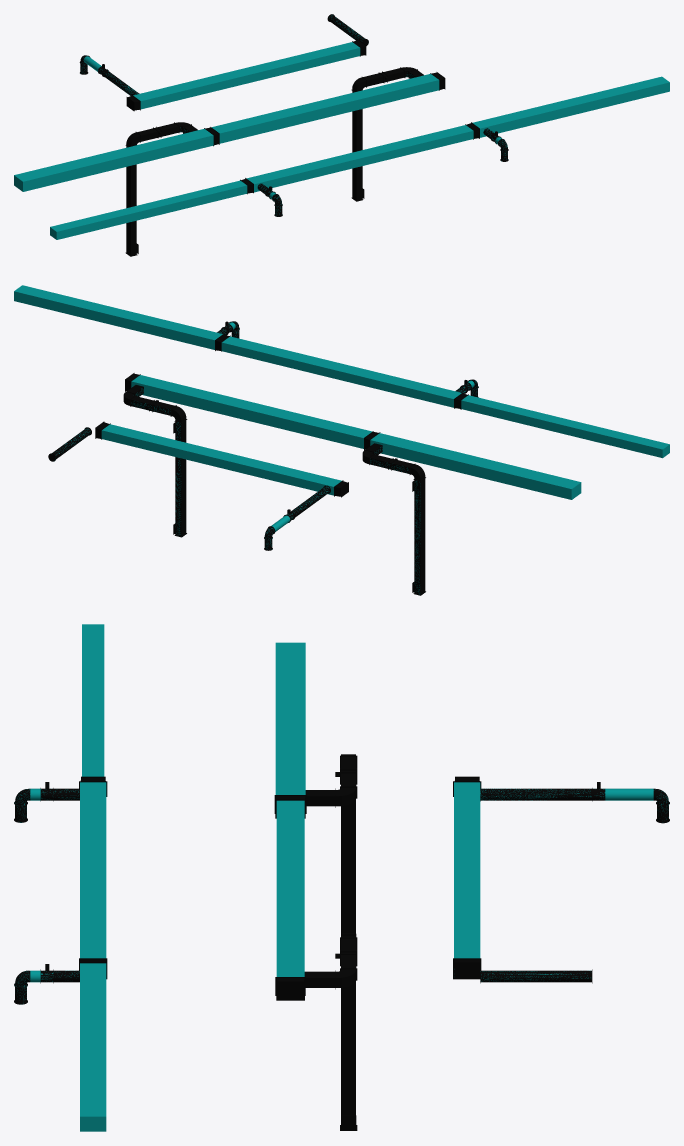
The model's file is GCC-AAV-13220-30.nwd(3).fbx.
The picture shows the model from 3 angles, top to bottom: view 1: azimuth 30°, elevation 25°; view 2: azimuth 150°, elevation 25°; view 3: azimuth 270°, elevation 25°; orthographic projection. The views are drawn at different scales.
Visible parts, largest first — view 1: Параллелепипед (×6), STRT 4 of BRANCH /794-13220-ST-001-EF-001A-EA-0001-118, STRT 4 of BRANCH /794-13220-ST-001-EF-001A-EA-0001-117; view 2: Параллелепипед (×6), STRT 4 of BRANCH /794-13220-ST-001-EF-001A-EA-0001-118, STRT 4 of BRANCH /794-13220-ST-001-EF-001A-EA-0001-117; view 3: Параллелепипед (×6), STRT 4 of BRANCH /794-13220-ST-001-EF-001A-EA-0001-117, STRT 4 of BRANCH /794-13220-ST-001-EF-001A-EA-0001-118, STRT 1 of BRANCH /794-13220-ST-001-AHU-001A-SAA-0002-044, STRT 1 of BRANCH /794-13220-ST-001-AHU-001A-SAA-0002-045, TAPER 5 of BRANCH /794-13220-ST-001-EF-001A-EA-0001-002.
Boxes of the visible parts, x1,y1,x2,y2 form: Параллелепипед (×6): [14, 42, 669, 239]; STRT 4 of BRANCH /794-13220-ST-001-EF-001A-EA-0001-118: [125, 146, 137, 256]; STRT 4 of BRANCH /794-13220-ST-001-EF-001A-EA-0001-117: [351, 91, 363, 201]; Параллелепипед (×6): [14, 285, 669, 499]; STRT 4 of BRANCH /794-13220-ST-001-EF-001A-EA-0001-118: [413, 478, 425, 595]; STRT 4 of BRANCH /794-13220-ST-001-EF-001A-EA-0001-117: [174, 420, 186, 537]; Параллелепипед (×6): [80, 624, 480, 1131]; STRT 4 of BRANCH /794-13220-ST-001-EF-001A-EA-0001-117: [340, 981, 357, 1130]; STRT 4 of BRANCH /794-13220-ST-001-EF-001A-EA-0001-118: [341, 800, 355, 933]; STRT 1 of BRANCH /794-13220-ST-001-AHU-001A-SAA-0002-044: [480, 969, 592, 983]; STRT 1 of BRANCH /794-13220-ST-001-AHU-001A-SAA-0002-045: [480, 788, 592, 801]; TAPER 5 of BRANCH /794-13220-ST-001-EF-001A-EA-0001-002: [275, 977, 305, 1000].
Size of the model in its own units: 1228 by 234 by 690.
